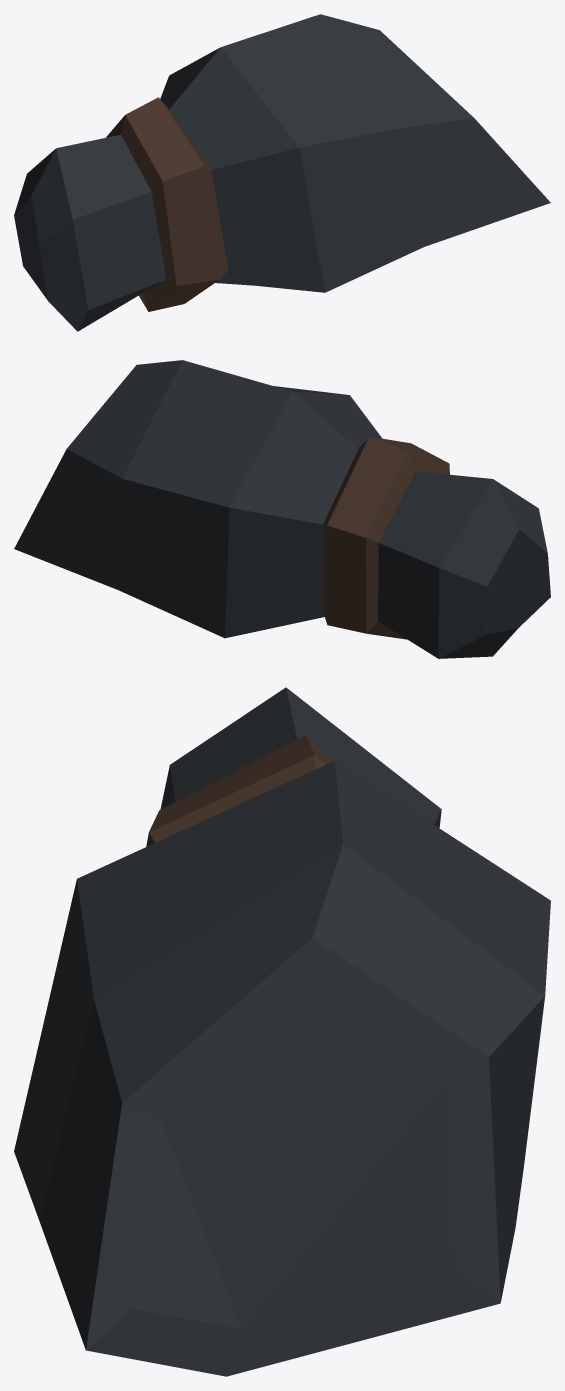
File: Chr_ArmUpperRight_Female_17_Static.fbx
3 views of the same model, one above another, from view 1: azimuth 30°, elevation 25°; view 2: azimuth 150°, elevation 25°; view 3: azimuth 270°, elevation 25° (orthographic). The views are drawn at different scales.
Visible parts, largest first — view 1: Chr_ArmUpperRight_Female_17_Static; view 2: Chr_ArmUpperRight_Female_17_Static; view 3: Chr_ArmUpperRight_Female_17_Static.
Boxes of the visible parts, x1,y1,x2,y2 form: Chr_ArmUpperRight_Female_17_Static: (14,14,550,331); Chr_ArmUpperRight_Female_17_Static: (14,360,550,658); Chr_ArmUpperRight_Female_17_Static: (14,687,550,1376).
Bounding box in the file's own units: 0.3512 × 0.168 × 0.1761.
